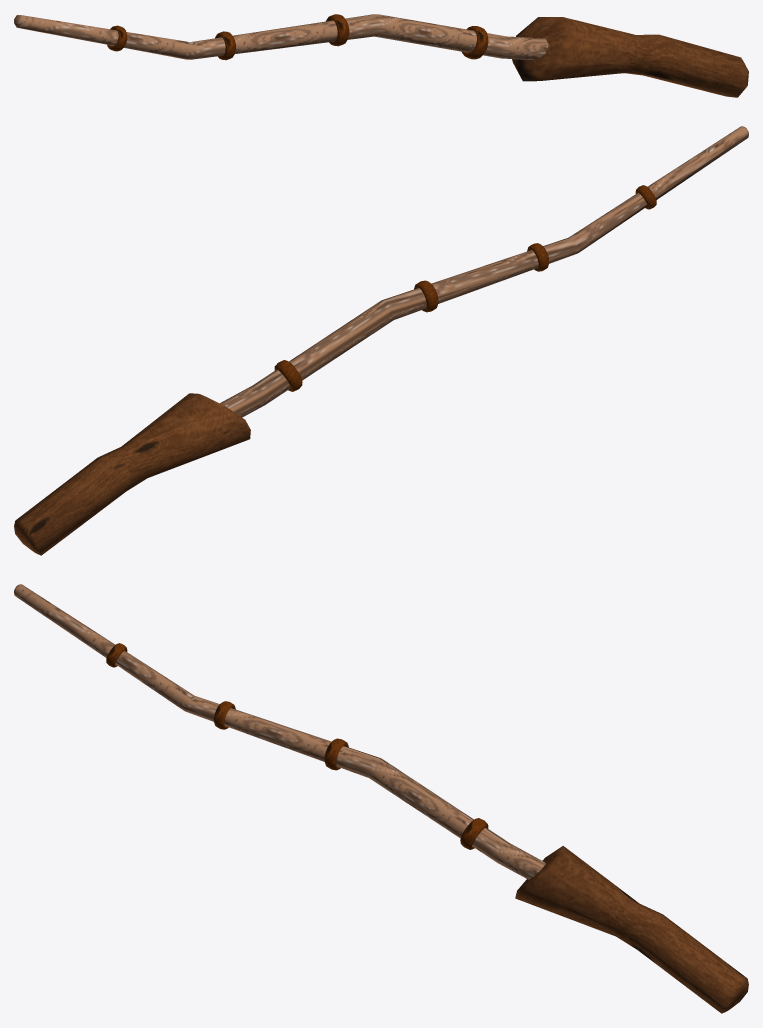
File: Varinha_3.fbx
3 renders of one model, top to bottom at view 1: azimuth 30°, elevation 25°; view 2: azimuth 210°, elevation 25°; view 3: azimuth 330°, elevation 25°, orthographic.
Visible parts, largest first — view 1: Varinha_3; view 2: Varinha_3; view 3: Varinha_3.
Boxes of the visible parts, x1,y1,x2,y2 form: Varinha_3: (14, 14, 748, 97); Varinha_3: (14, 126, 748, 555); Varinha_3: (14, 584, 748, 1013).
Bounding box in the file's own units: 50.15 × 16.71 × 4.21.
